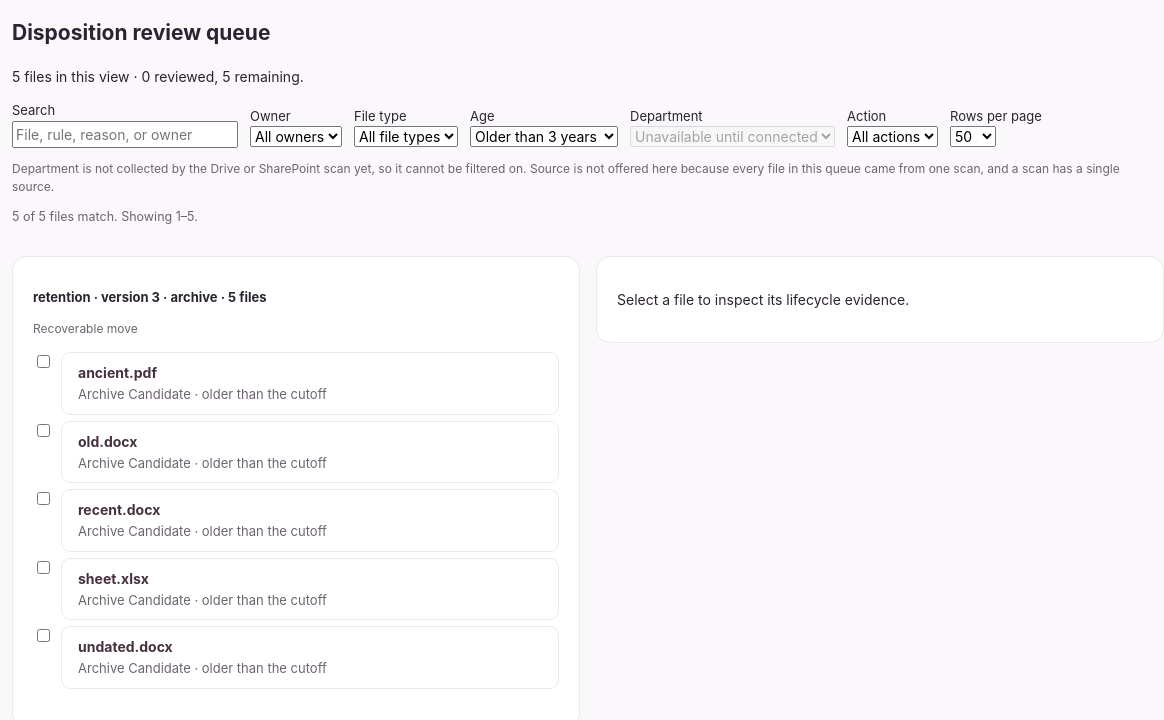
Scenario: age › restores everything when the filter is cleared
Select "Older than 3 years" in the dropdown labelled "Age" at (544, 137), box [470, 126, 618, 147]
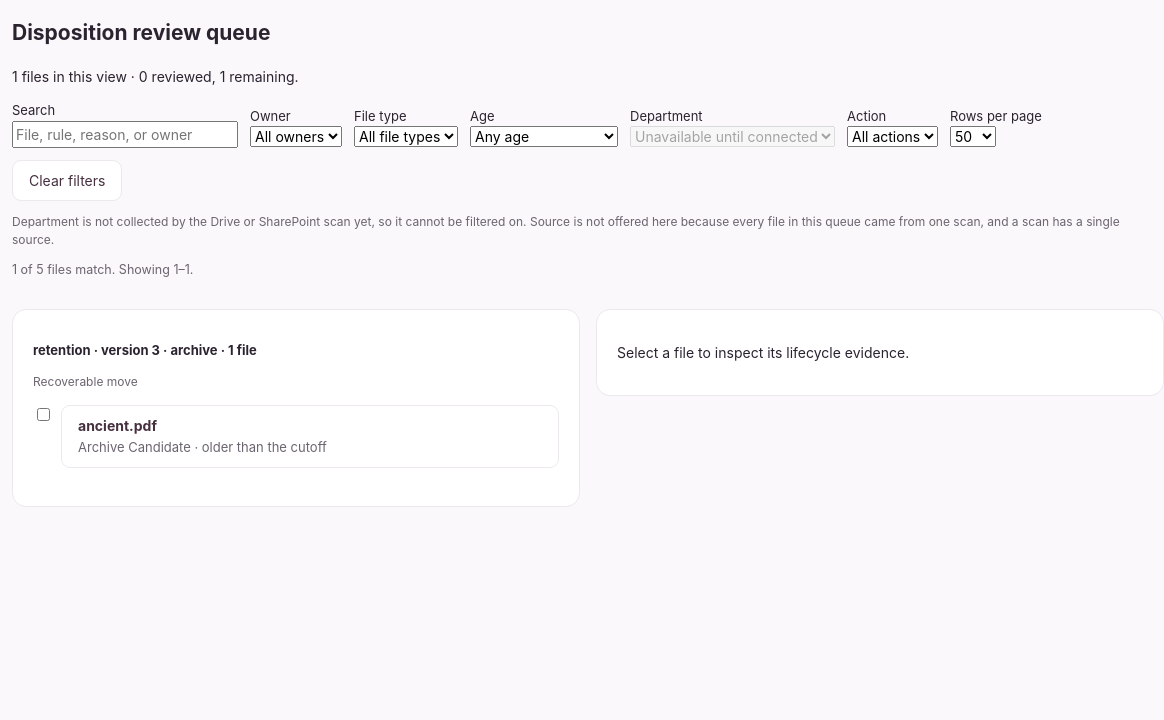
Expected: the text "1 files in this view" is shown, [12, 68, 298, 85]
Select "Any age" in the dropdown labelled "Age" at (544, 137), box [470, 126, 618, 147]
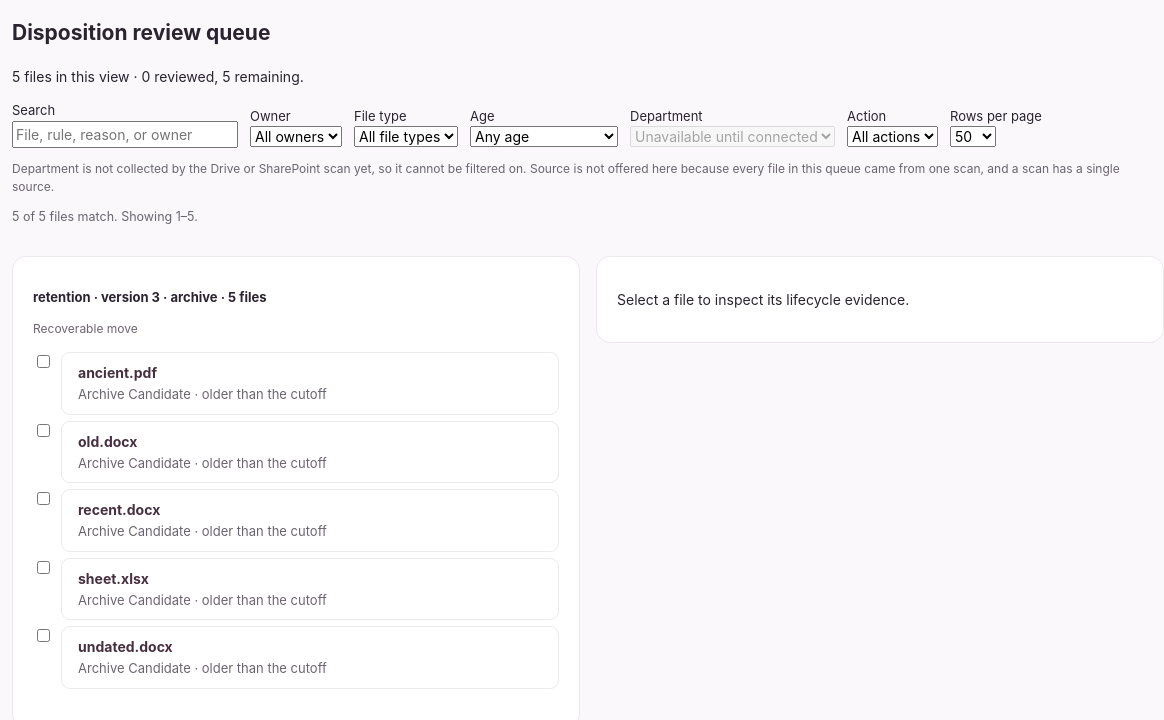
Expected: the text "5 files in this view" is shown, [12, 68, 304, 85]
